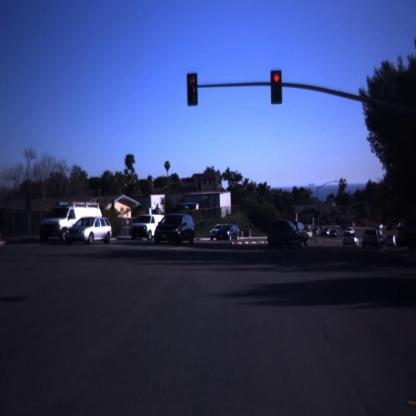trafficlight: (184, 70, 201, 109), (270, 66, 285, 108)
